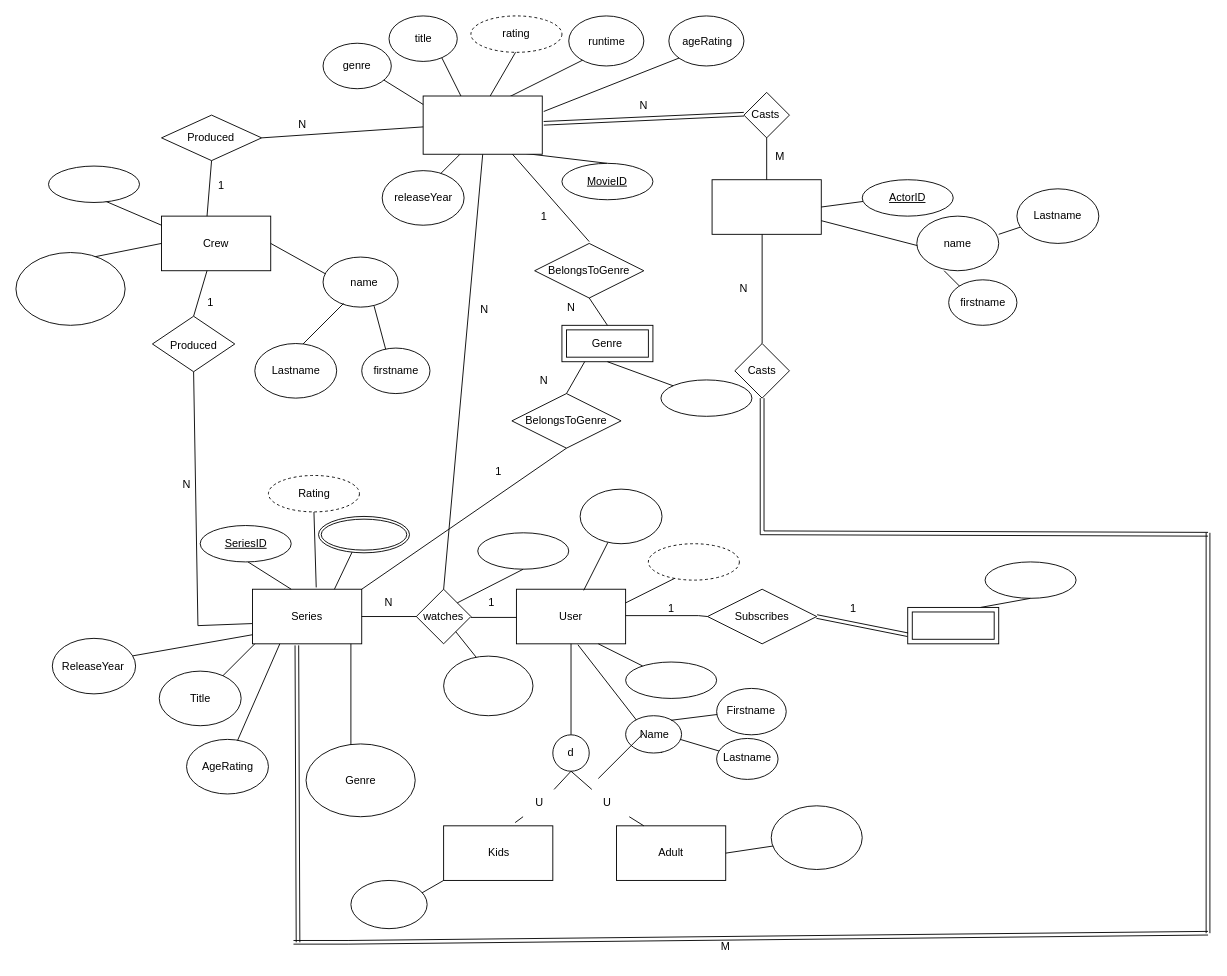
The diagram is 1227 pixels wide and 976 high, and some of its shapes have lost their labels. Here are the shapes that lost their labels. From the top down, the centre of each, then its label:
At (482,124): "Movies".
At (94,183): "CrewID".
At (766,206): "Actor".
At (70,288): "role".
At (706,397): "Type".
At (364,534): "Seasons".
At (620,516): "Email".
At (523,550): "StarRating".
At (693,561): "Age".
At (1030,579): "Newsletter".
At (953,625): "Subscription".
At (488,685): "Reviews".
At (671,679): "UserID".
At (816,837): "Censorship".
At (388,904): "AgeRestriction".
